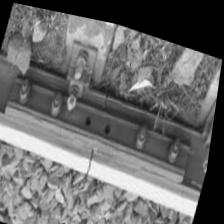person: (72, 135, 116, 183)
